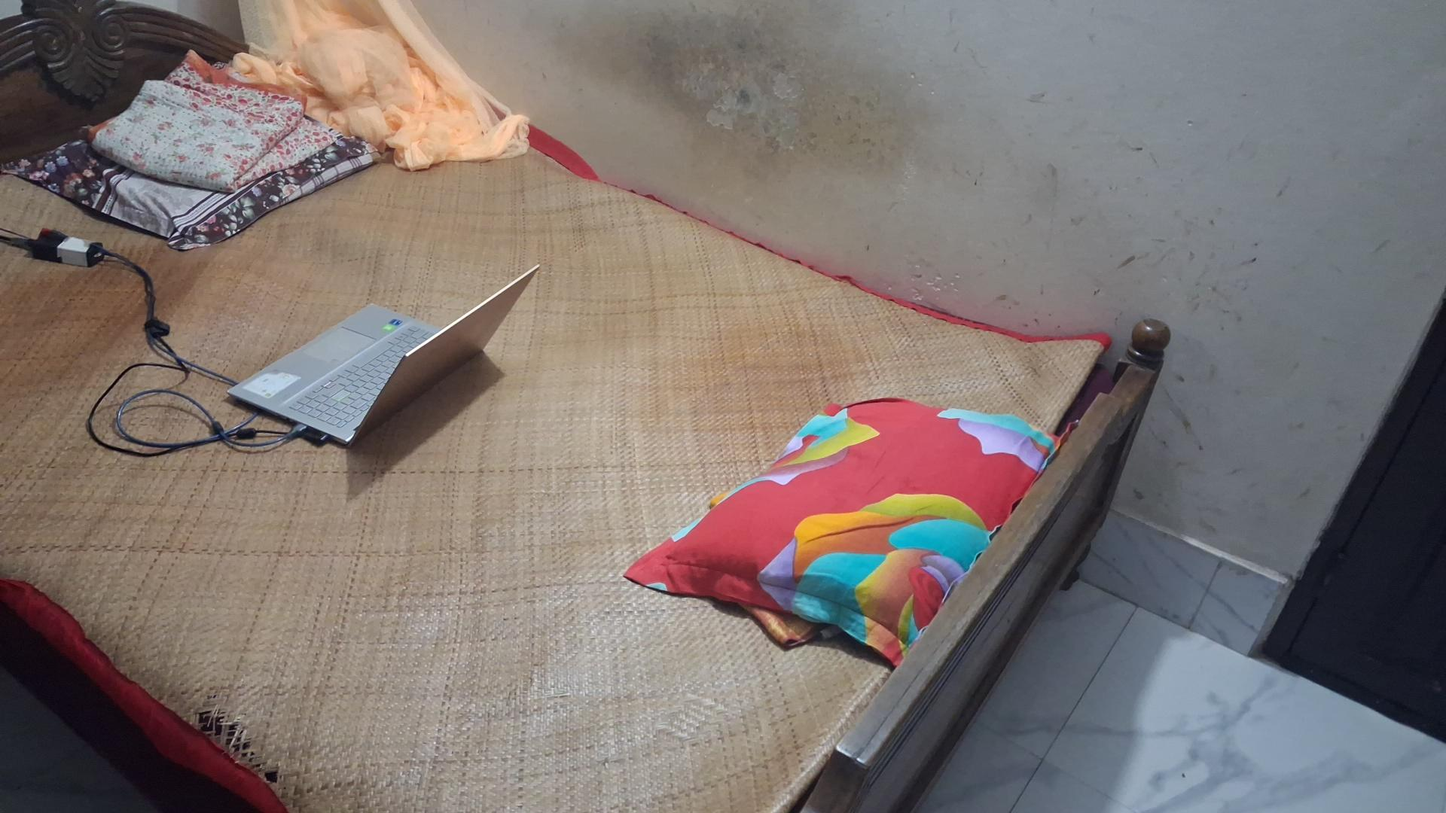Blanket: (89, 64, 352, 187)
Laptop: (224, 270, 541, 445)
Pillow: (629, 392, 1057, 657)
